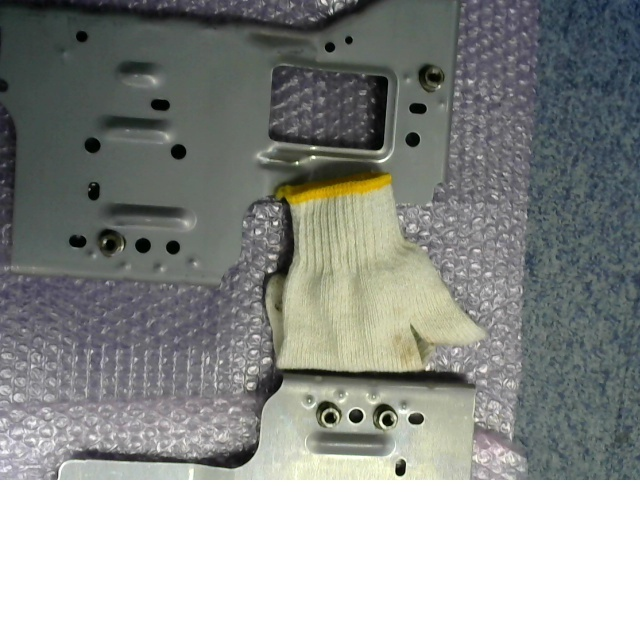dog: (97, 229, 125, 257), (419, 63, 445, 92), (316, 400, 342, 427), (373, 403, 398, 431)
